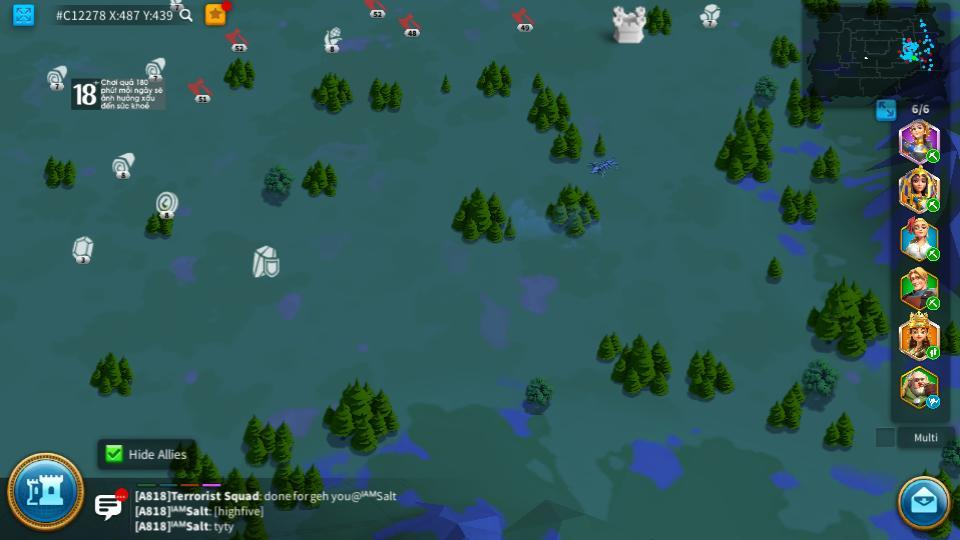gem-z-out: (72, 236, 95, 263)
march_farming: (925, 197, 941, 212), (923, 345, 940, 359), (925, 248, 941, 260), (925, 297, 941, 308)
march_marching: (925, 150, 942, 162)
